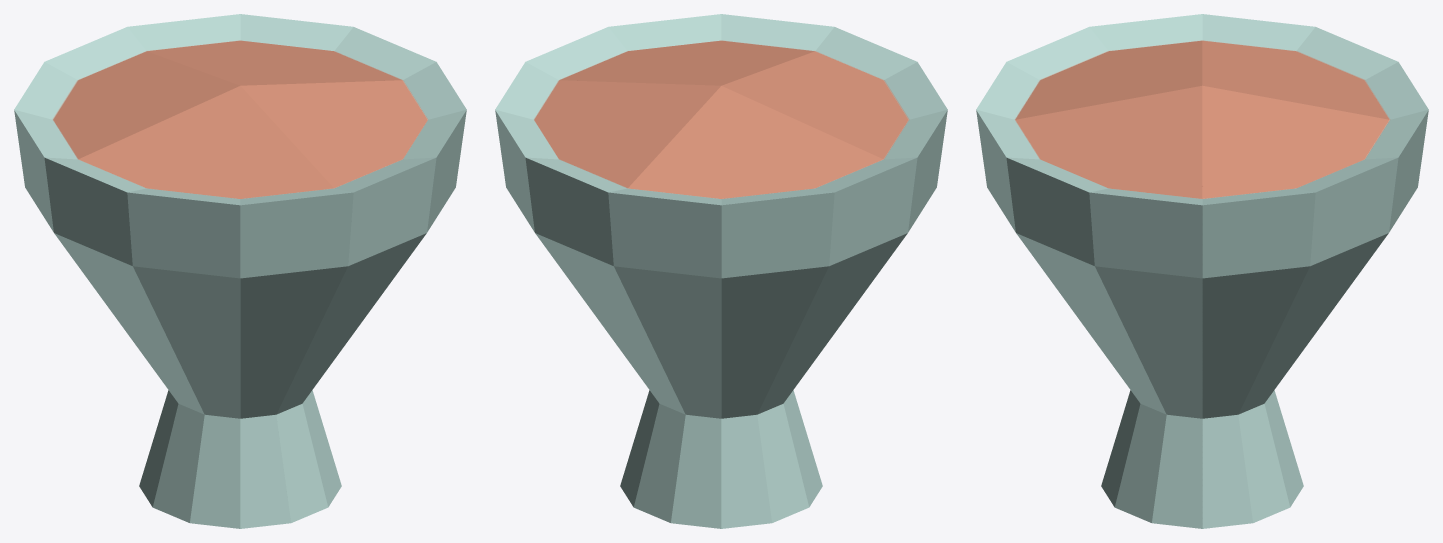
Rendered from FlowerBouquet.fbx.
3 renders of one model, left to right at view 1: azimuth 30°, elevation 25°; view 2: azimuth 150°, elevation 25°; view 3: azimuth 270°, elevation 25°, orthographic.
Parts seen in each view (by area): view 1: Bouquet; view 2: Bouquet; view 3: Bouquet.
Part boxes in pixels (x1,y1,x2,y2): Bouquet: [14, 14, 466, 528]; Bouquet: [495, 14, 947, 528]; Bouquet: [976, 14, 1428, 528].
Size of the model in its own units: 28.69 by 27.99 by 28.69.
